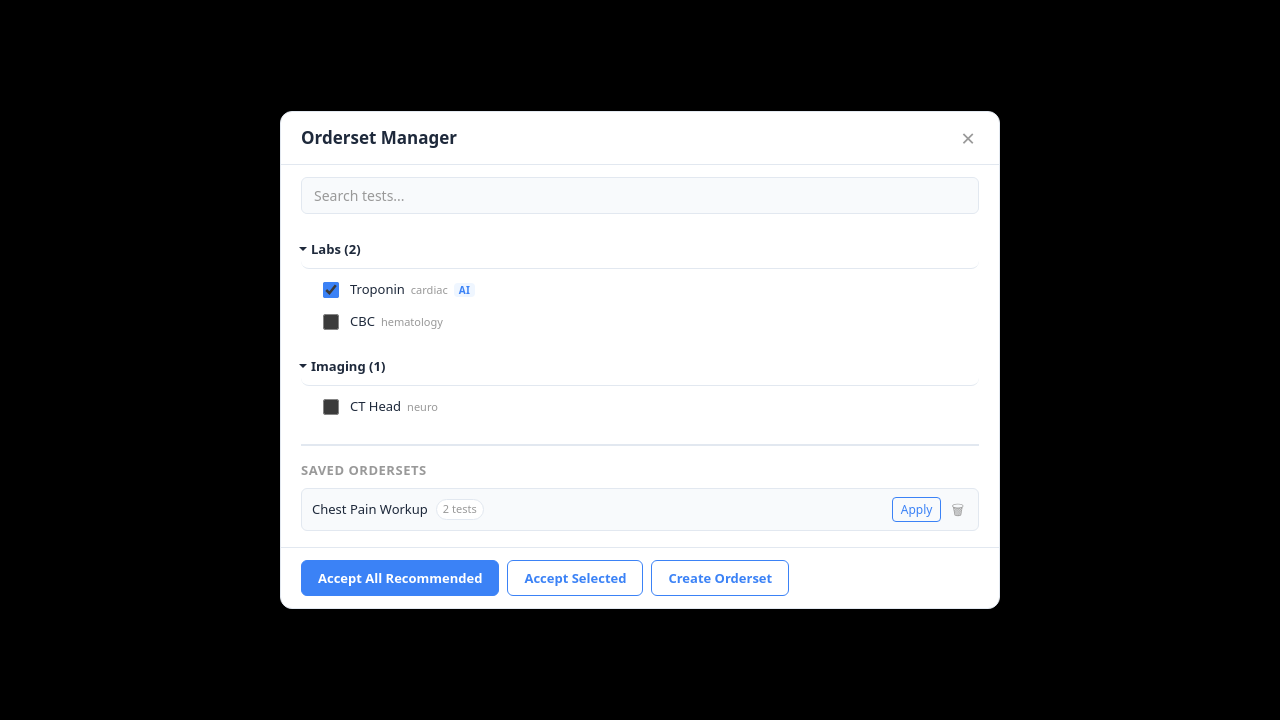
OrdersetManager › validates empty name on create
This screenshot has width=1280, height=720.
Click the button "Create Orderset". click: click(720, 578)
box: [651,560,789,596]
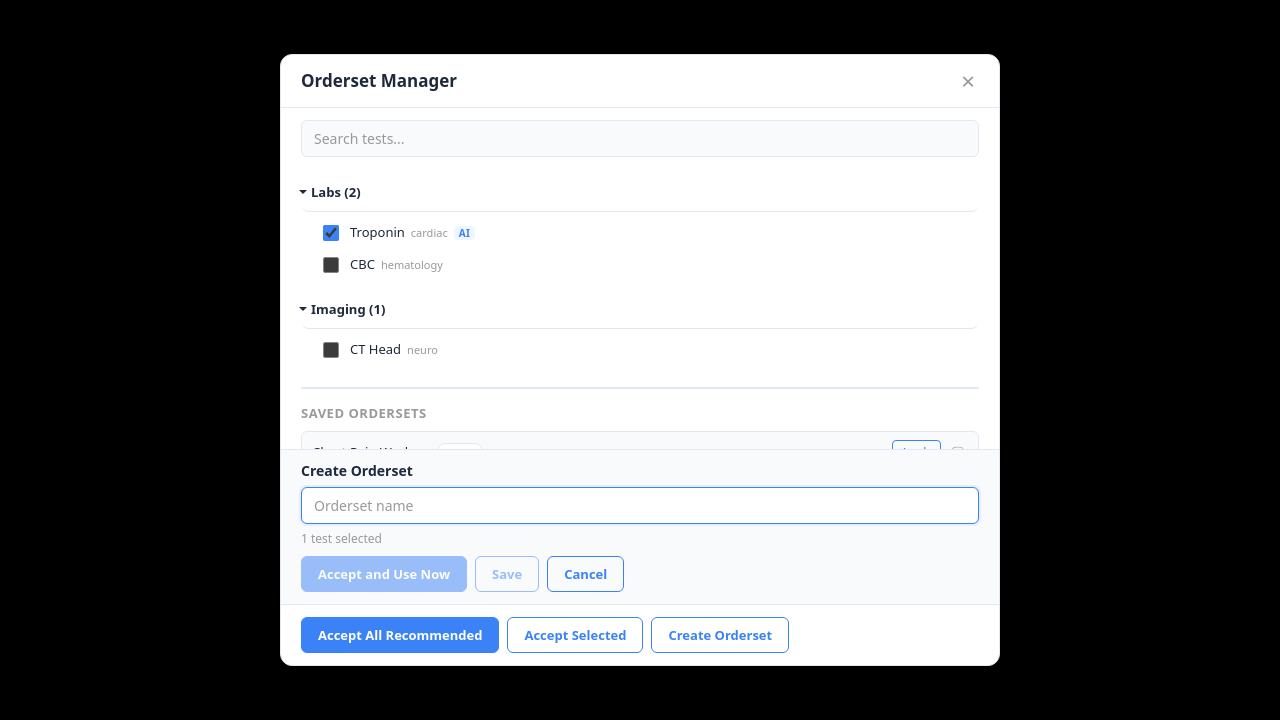
Note: Try to save with empty name via Enter key (button is disabled when empty)
Press Enter in the field with placeholder "Orderset name", box [301,487,979,524]
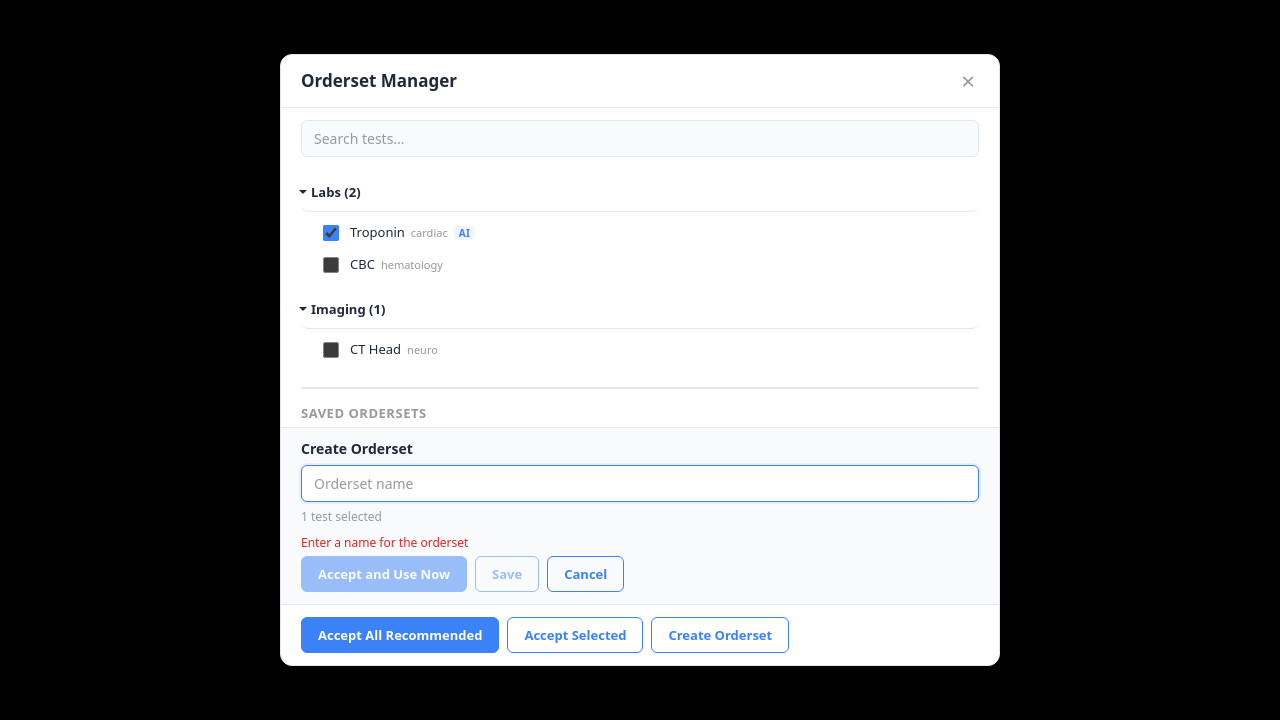
Expected: the text "Enter a name for the orderset" is shown, [301,534,468,551]
